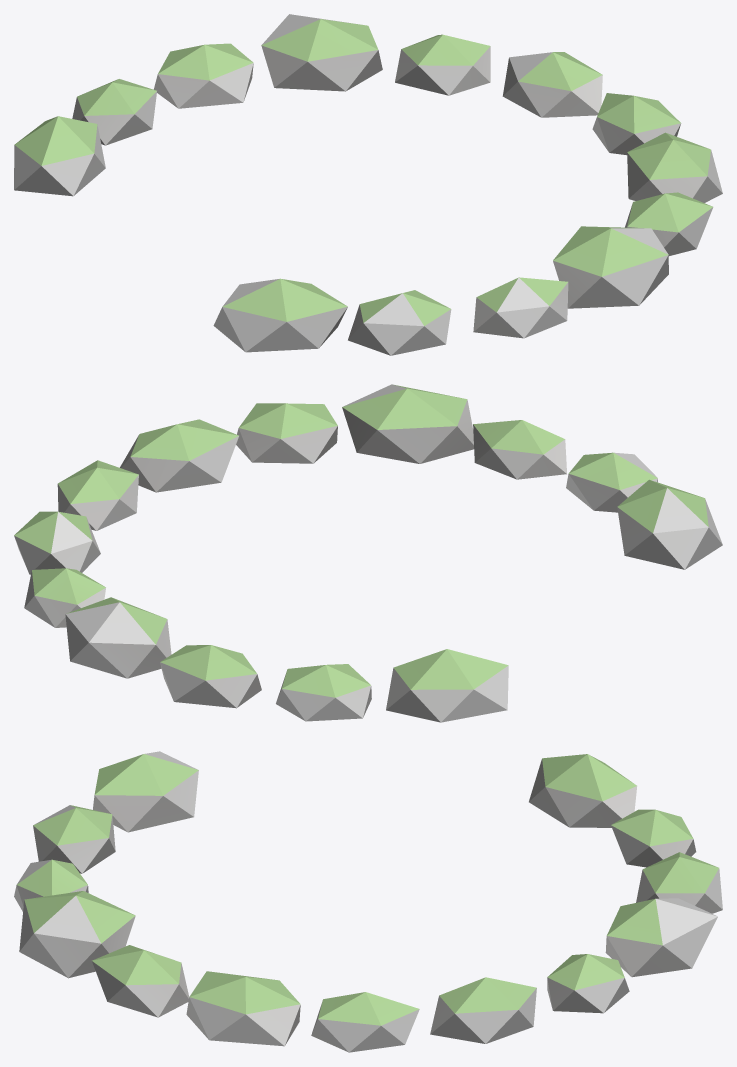
The model's file is VFallsPool.fbx.
3 views of the same model, one above another, from view 1: azimuth 30°, elevation 25°; view 2: azimuth 150°, elevation 25°; view 3: azimuth 270°, elevation 25° (orthographic).
Visible parts, largest first — view 1: VFallsPool; view 2: VFallsPool; view 3: VFallsPool.
Boxes of the visible parts, box(x1,y1,x2,y2) form: VFallsPool: box(14, 14, 722, 355); VFallsPool: box(14, 384, 722, 722); VFallsPool: box(14, 751, 722, 1052).
Size of the model in its own units: 9.33 by 0.9762 by 10.4.
